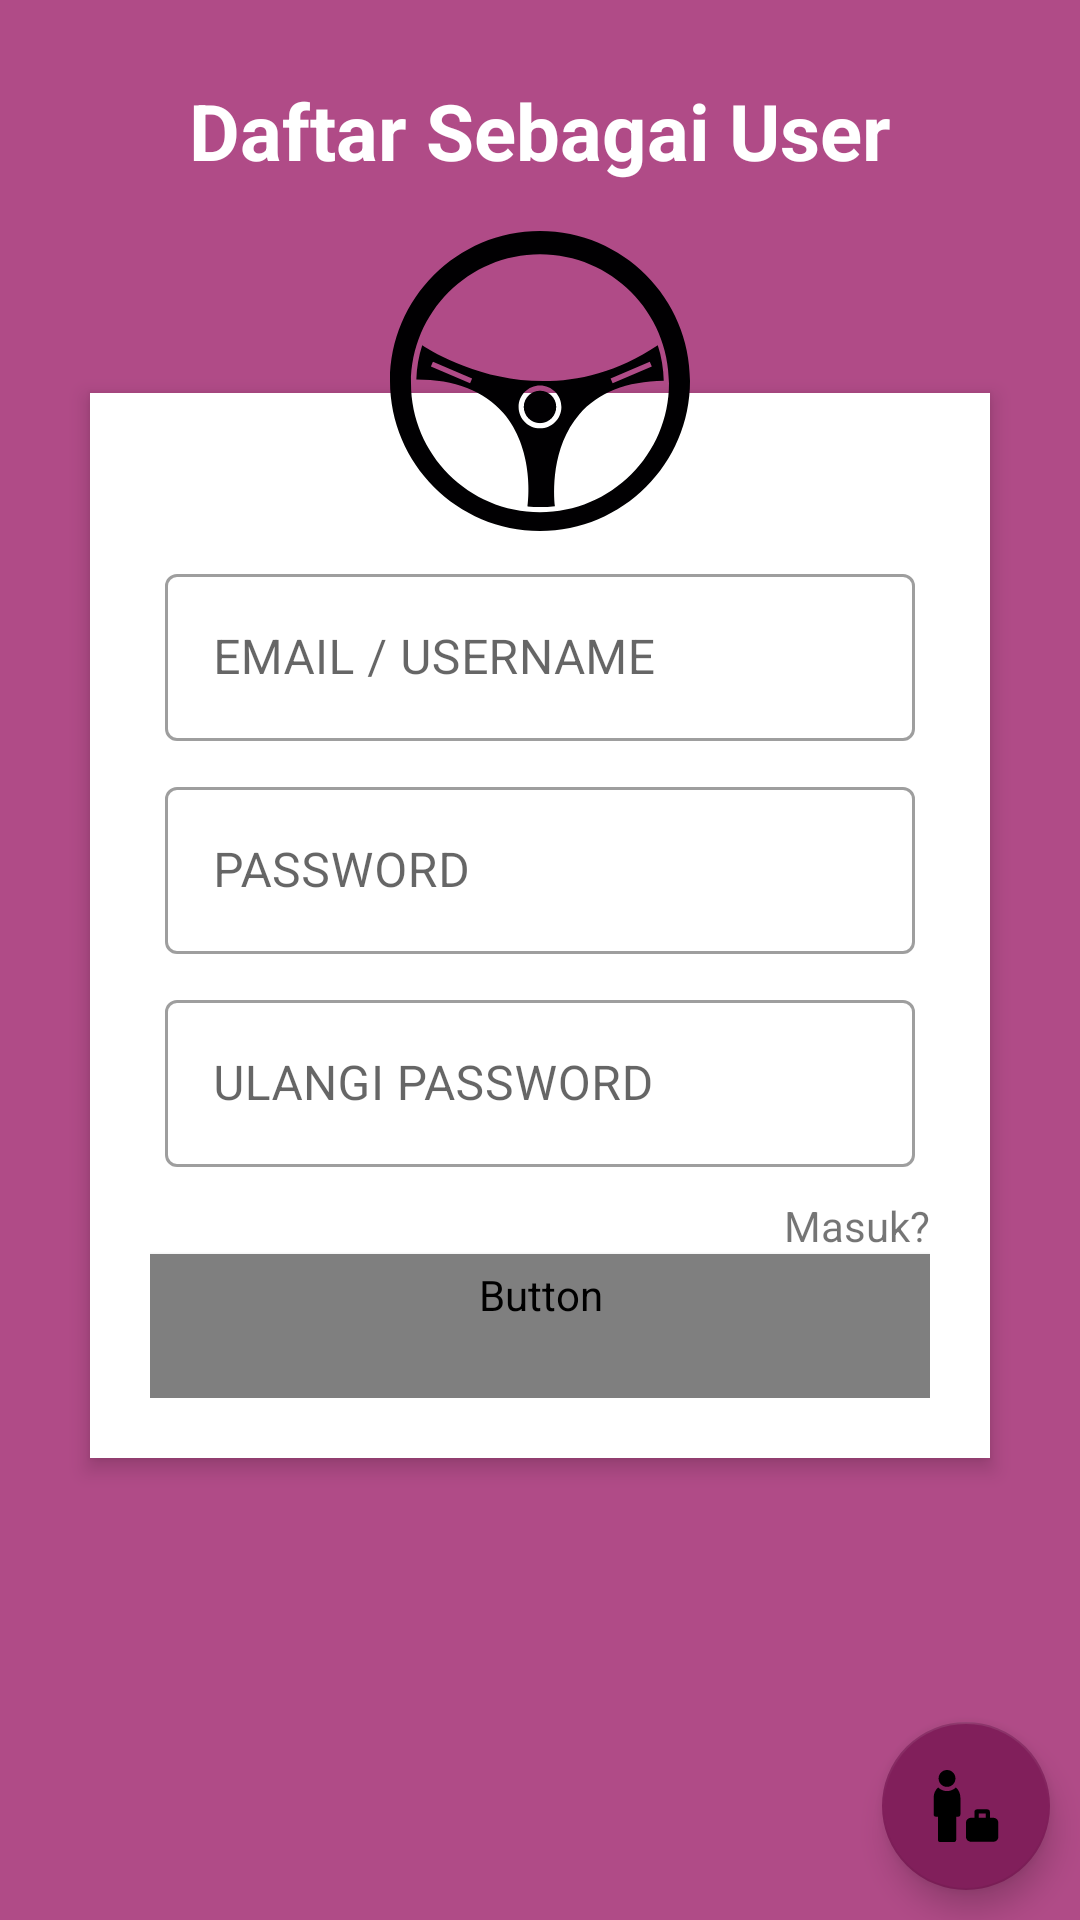

Locate icon controls on the screen. Image size 1080px×1920px, boxes as (x1, y1, x2, y2).
user: (882, 1722, 1050, 1890)
